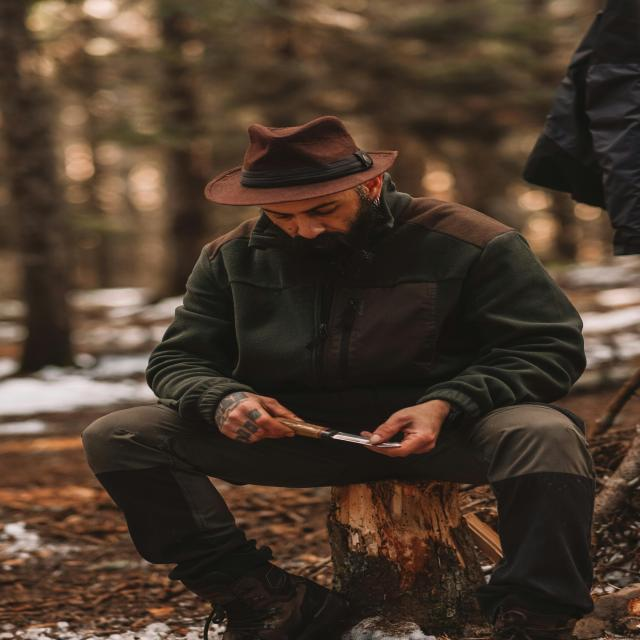Knife: (280, 420, 372, 447), (375, 442, 400, 448)
